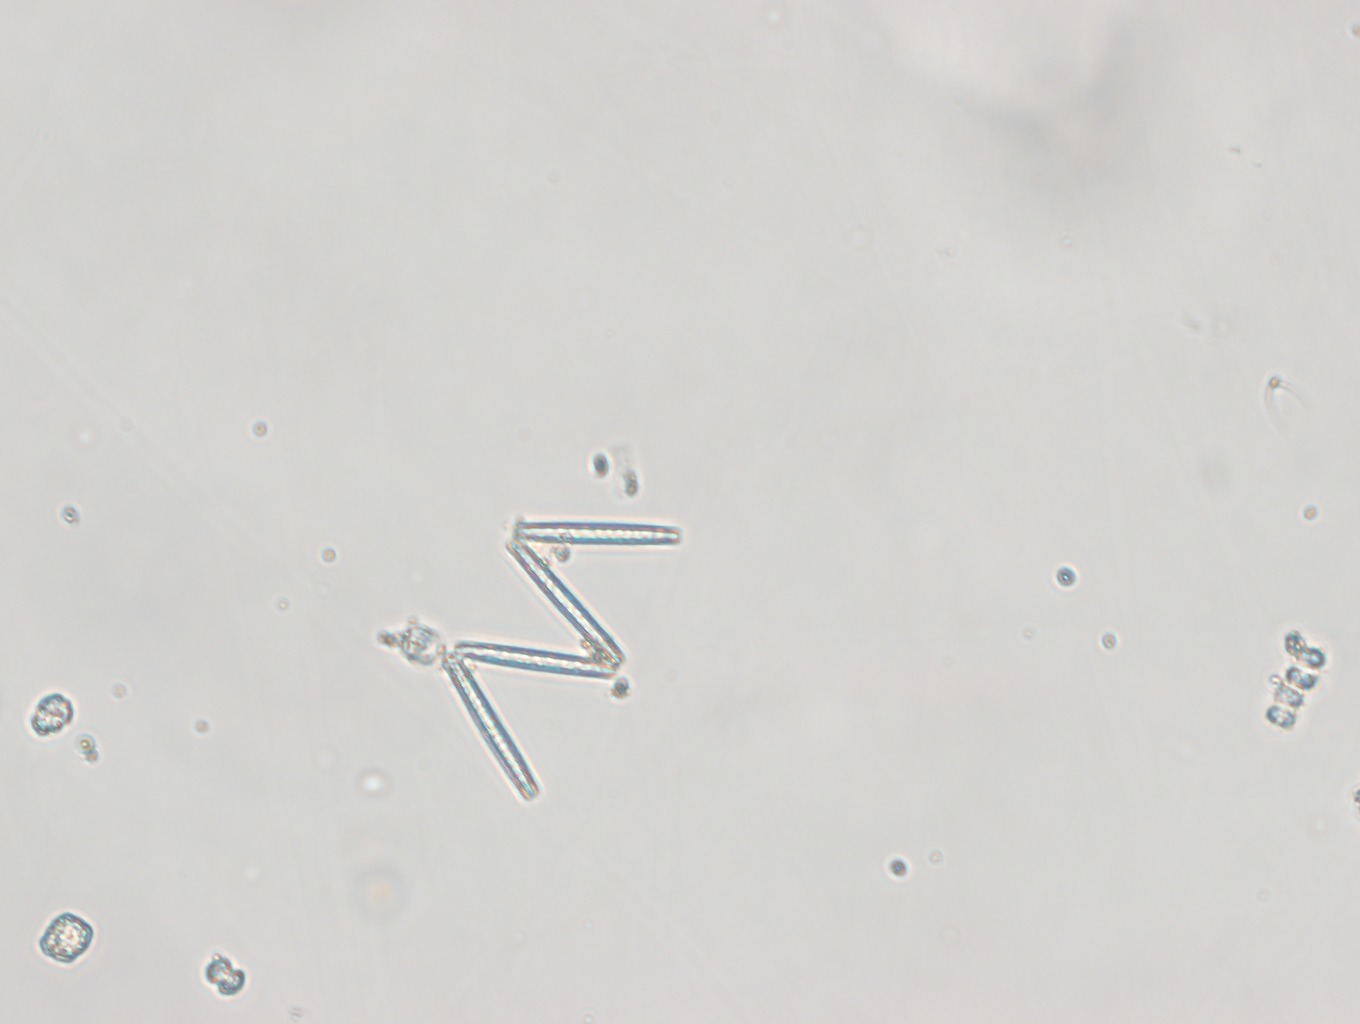thalassionema nitzschioides: (444, 513, 684, 806)
